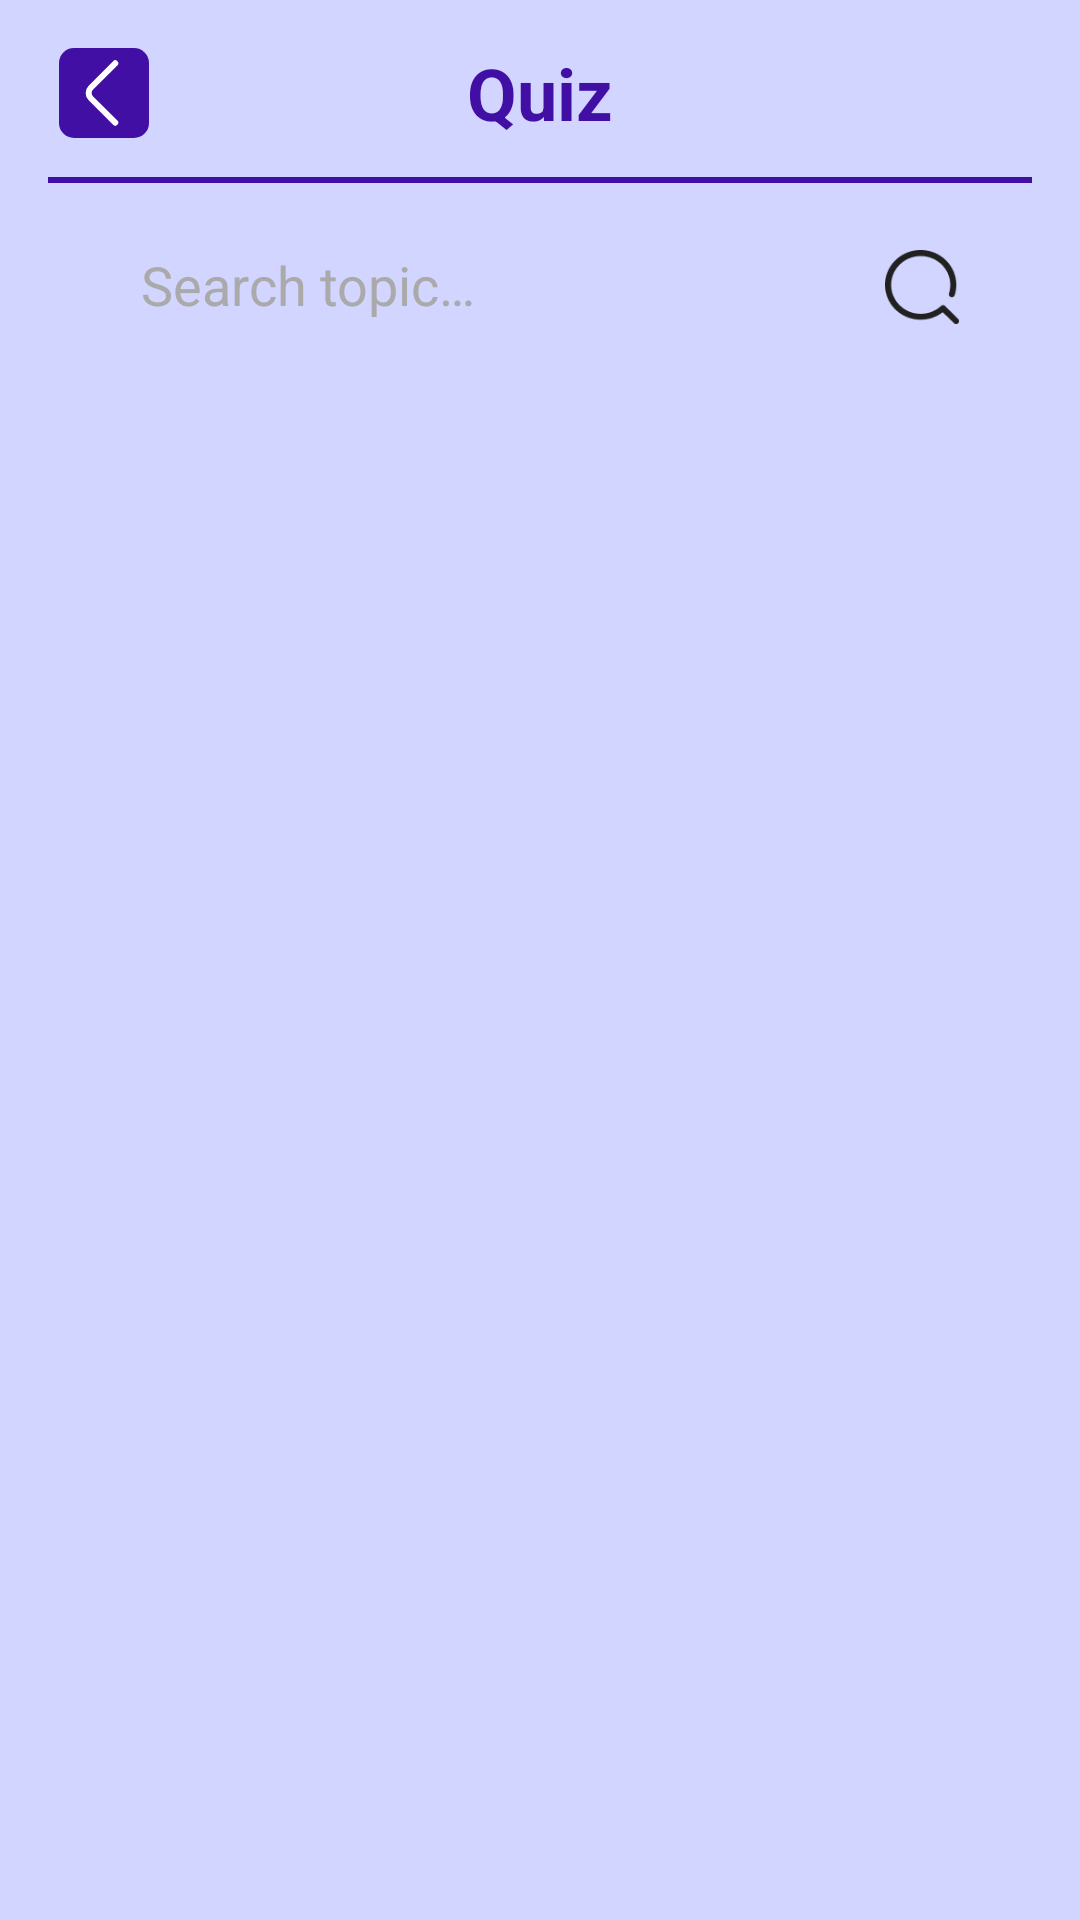

Icons on this 1080 × 1920 Android screen, each with its box as (x1,y1,x2,y2):
Back: (59,48,149,138)
